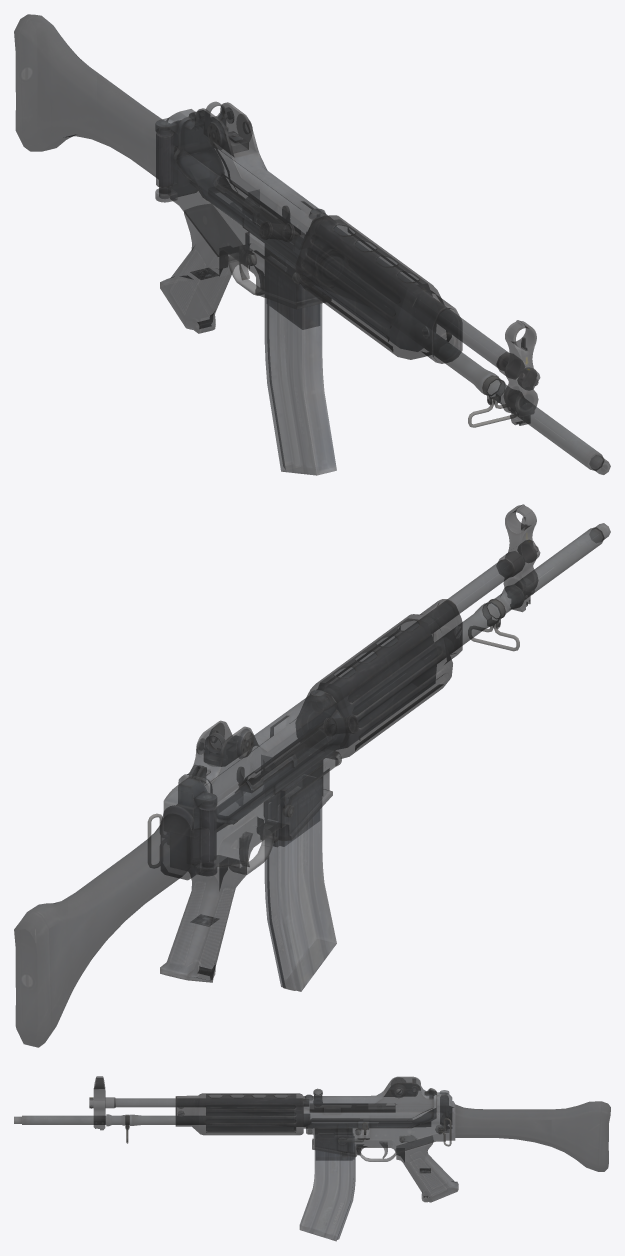
The model's file is K2gUN.fbx.
The picture shows the model from 3 angles, top to bottom: view 1: azimuth 30°, elevation 25°; view 2: azimuth 150°, elevation 25°; view 3: azimuth 270°, elevation 25°; orthographic projection. The views are drawn at different scales.
Visible parts, largest first — view 1: Mesh_0036.003; view 2: Mesh_0036.003; view 3: Mesh_0036.003.
Boxes of the visible parts, x1,y1,x2,y2 form: Mesh_0036.003: (14,14,610,475); Mesh_0036.003: (14,504,610,1047); Mesh_0036.003: (14,1076,610,1241).
Bounding box in the file's own units: 124 × 468 × 1557.
